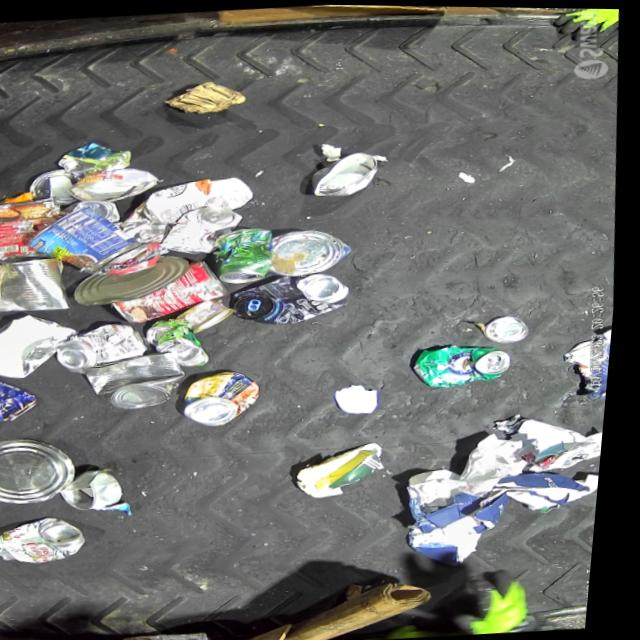can: (25, 202, 150, 279), (112, 255, 236, 324), (235, 267, 358, 326), (84, 347, 196, 411), (0, 433, 90, 508), (75, 251, 196, 305), (60, 318, 157, 374), (0, 513, 99, 566), (417, 338, 521, 388), (186, 367, 271, 426), (0, 253, 81, 314), (161, 202, 250, 256), (0, 194, 66, 262), (273, 224, 359, 276), (213, 226, 281, 284), (69, 164, 165, 204), (313, 147, 389, 197), (148, 315, 219, 368), (64, 466, 133, 511), (0, 367, 50, 424), (179, 295, 240, 334), (29, 166, 84, 206), (65, 197, 126, 224), (488, 311, 536, 341), (130, 627, 225, 640)
